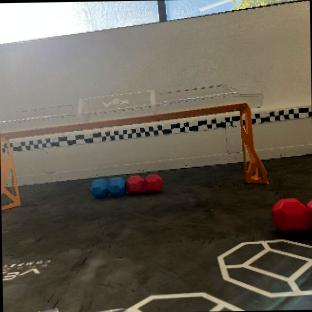V5_BLUE: (90, 177, 125, 197)
V5_RED: (272, 198, 312, 232), (127, 173, 161, 193)
